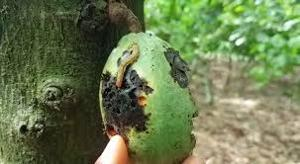fallarmy_worm: (108, 44, 141, 87)
